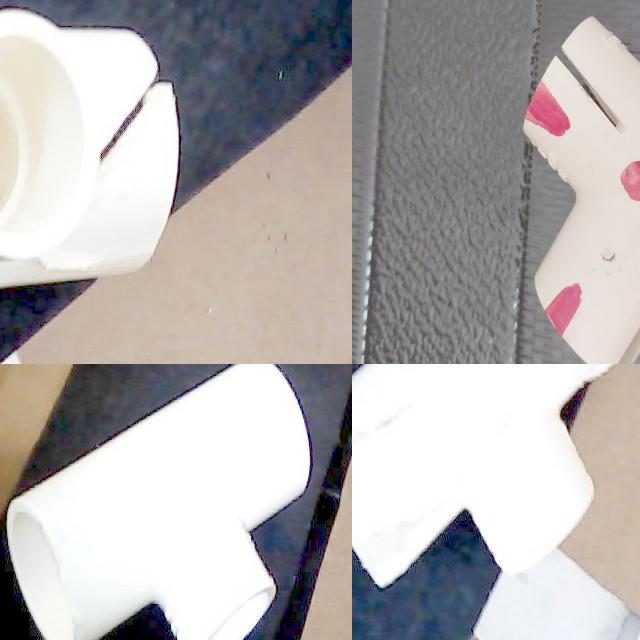Defective: (367, 161, 538, 324), (99, 84, 164, 174), (461, 308, 559, 364), (491, 126, 549, 200), (486, 89, 532, 156), (38, 249, 146, 276), (483, 79, 522, 131), (435, 202, 471, 256), (352, 105, 376, 154), (492, 76, 524, 112)
T Joint: (7, 367, 312, 640), (352, 71, 589, 364), (352, 364, 618, 590)
